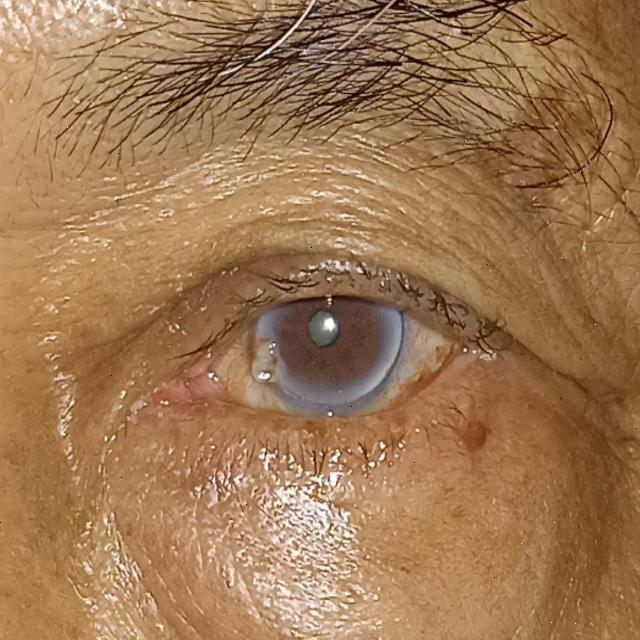Cataract: (247, 249, 403, 409)
